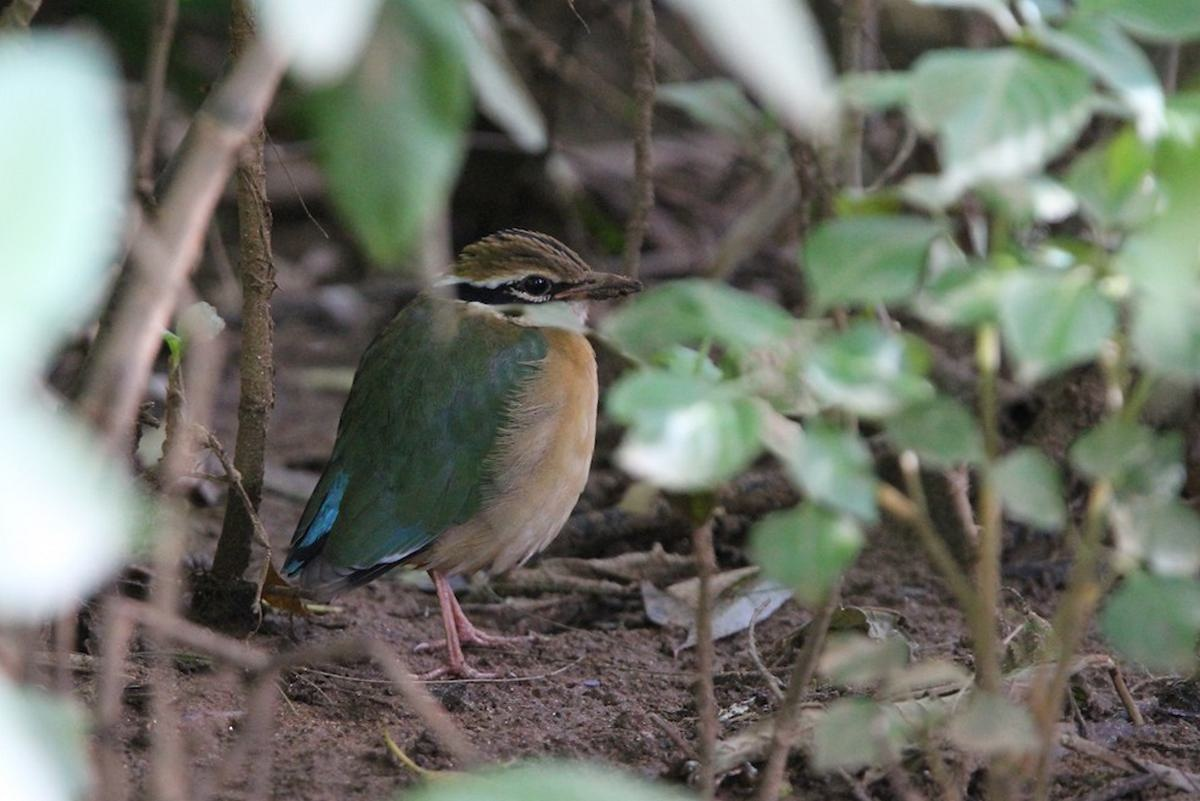pitta: (258, 197, 716, 635)
